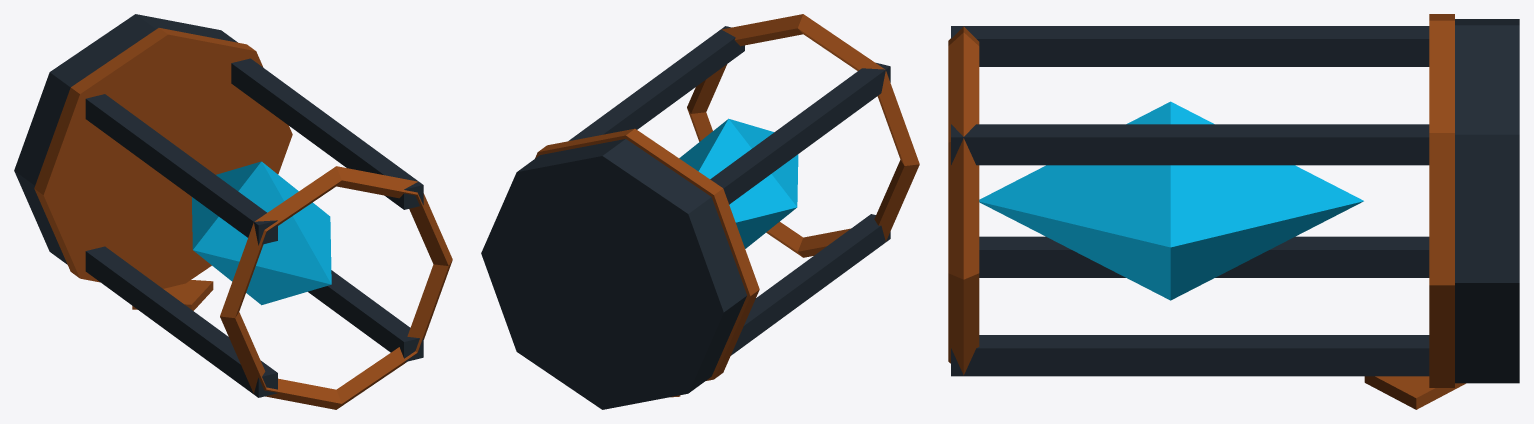
Rendered from SM_RuneBeacon.obj.
The picture shows the model from 3 angles, left to right: view 1: azimuth 30°, elevation 25°; view 2: azimuth 150°, elevation 25°; view 3: azimuth 270°, elevation 25°; orthographic projection. The views are drawn at different scales.
Visible parts, largest first — view 1: SM_RuneBeacon_Copper, SM_RuneBeacon_Metal, SM_RuneBeacon_Glow; view 2: SM_RuneBeacon_Metal, SM_RuneBeacon_Copper, SM_RuneBeacon_Glow; view 3: SM_RuneBeacon_Metal, SM_RuneBeacon_Glow, SM_RuneBeacon_Copper.
Boxes of the visible parts, x1=… form: SM_RuneBeacon_Copper: x1=34, y1=28, x2=452, y2=409; SM_RuneBeacon_Metal: x1=14, y1=14, x2=423, y2=397; SM_RuneBeacon_Glow: x1=192, y1=161, x2=331, y2=305; SM_RuneBeacon_Metal: x1=481, y1=26, x2=890, y2=409; SM_RuneBeacon_Copper: x1=535, y1=14, x2=919, y2=397; SM_RuneBeacon_Glow: x1=679, y1=118, x2=798, y2=248; SM_RuneBeacon_Metal: x1=951, y1=19, x2=1519, y2=383; SM_RuneBeacon_Glow: x1=979, y1=101, x2=1363, y2=300; SM_RuneBeacon_Copper: x1=948, y1=14, x2=1465, y2=409.
Size of the model in its own units: 30.8 by 31.1 by 44.2.
